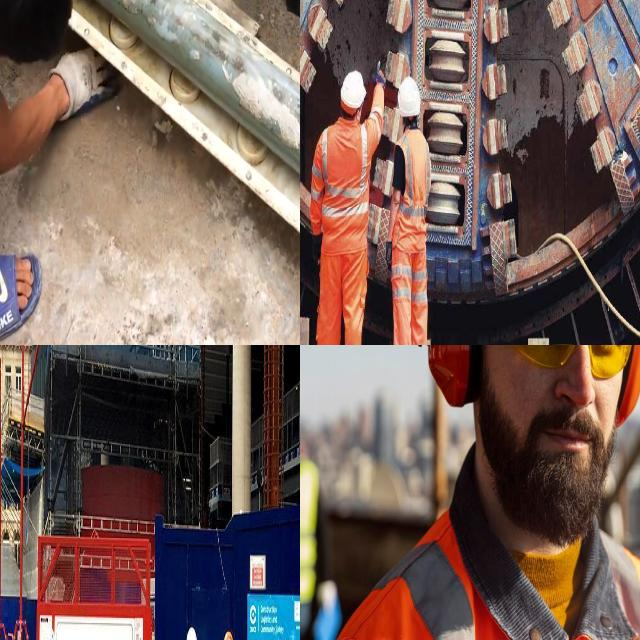Ear-protection: (410, 345, 481, 410), (615, 345, 640, 437)
Sandals: (0, 249, 43, 345)
glasses: (481, 345, 635, 381)
hand_glove: (44, 44, 120, 125), (371, 55, 388, 92), (383, 237, 397, 272)
head_helmet: (339, 72, 364, 109), (396, 79, 420, 117), (184, 625, 197, 640), (221, 626, 234, 640)
person: (300, 345, 640, 640), (313, 71, 369, 345), (389, 81, 431, 345)
vest: (321, 130, 368, 246), (398, 130, 428, 238)
